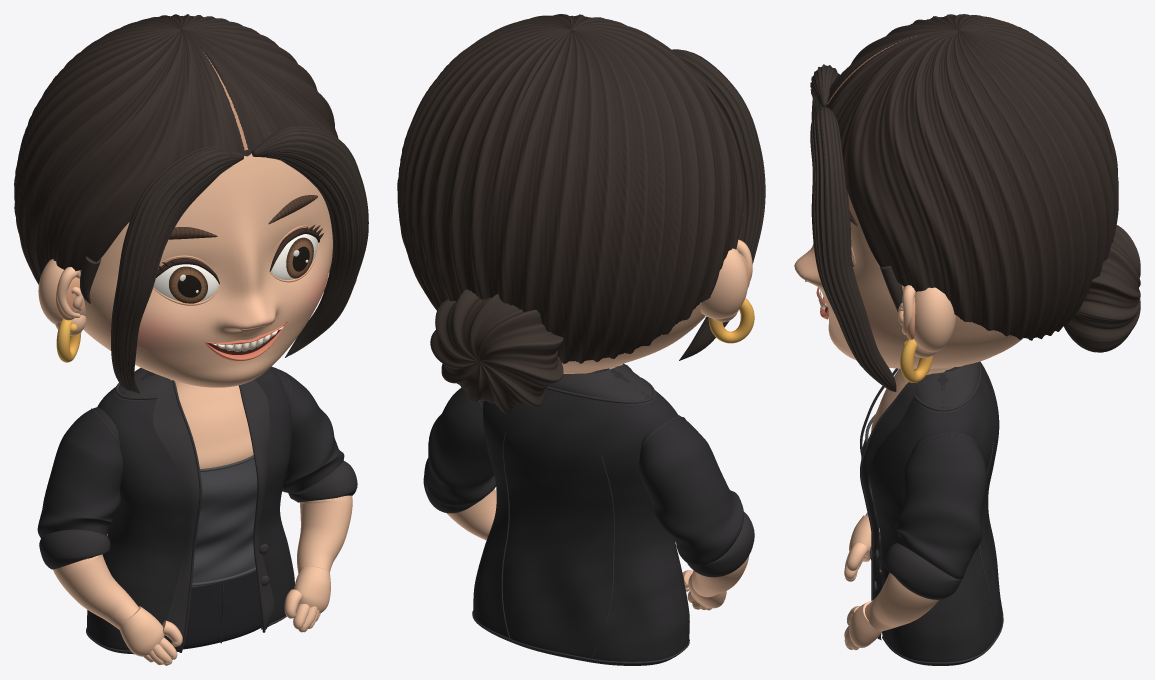
File: ashley_lin.glb
The picture shows the model from 3 angles, left to right: view 1: azimuth 30°, elevation 25°; view 2: azimuth 150°, elevation 25°; view 3: azimuth 270°, elevation 25°; orthographic projection. The views are drawn at different scales.
Parts seen in each view (by area): view 1: Swept crown and nape, Head, Blazer shell, Face-framing locks, Shaped sleeves, Shaped blazer lapels, Square-neck satin top, Forearms, Fine strands on front locks, Neck and open collarbone, Trousers at waist, Rolled jacket cuffs (+13 smaller); view 2: Swept crown and nape, Blazer shell, Shaped sleeves, Twisted low bun, Face-framing locks, Turned blazer collar, Forearms, Ears, Rolled jacket cuffs, Head, Gold hoop earrings, Blazer back darts (+2 smaller); view 3: Swept crown and nape, Blazer shell, Shaped sleeves, Face-framing locks, Head, Twisted low bun, Ears, Rolled jacket cuffs, Forearms, Shaped blazer lapels, Fine strands on front locks, Turned blazer collar (+7 smaller).
Part boxes in pixels (<box>): Swept crown and nape: <box>14,14,338,284</box>; Head: <box>79,153,332,387</box>; Blazer shell: <box>87,368,294,654</box>; Face-framing locks: <box>111,125,367,393</box>; Shaped sleeves: <box>37,367,344,538</box>; Shaped blazer lapels: <box>153,376,274,651</box>; Square-neck satin top: <box>192,455,257,587</box>; Forearms: <box>53,495,352,629</box>; Fine strands on front locks: <box>113,127,368,392</box>; Neck and open collarbone: <box>170,379,253,468</box>; Trousers at waist: <box>183,571,261,649</box>; Rolled jacket cuffs: <box>39,461,357,569</box>; Swept crown and nape: <box>397,14,743,363</box>; Blazer shell: <box>473,369,689,665</box>; Shaped sleeves: <box>424,387,743,565</box>; Twisted low bun: <box>430,289,563,413</box>; Face-framing locks: <box>672,49,765,360</box>; Turned blazer collar: <box>548,367,656,404</box>; Forearms: <box>446,489,749,597</box>; Ears: <box>700,248,750,322</box>; Rolled jacket cuffs: <box>423,475,754,577</box>; Head: <box>562,302,705,373</box>; Gold hoop earrings: <box>708,298,754,343</box>; Blazer back darts: <box>501,433,614,658</box>; Swept crown and nape: <box>825,14,1118,340</box>; Blazer shell: <box>869,361,1002,665</box>; Shaped sleeves: <box>894,430,987,578</box>; Face-framing locks: <box>810,64,896,391</box>; Head: <box>794,193,1023,368</box>; Twisted low bun: <box>1064,225,1140,352</box>; Ears: <box>903,287,955,357</box>; Rolled jacket cuffs: <box>884,543,961,599</box>; Forearms: <box>865,512,938,631</box>; Shaped blazer lapels: <box>861,373,934,640</box>; Fine strands on front locks: <box>810,64,893,391</box>; Turned blazer collar: <box>915,362,979,413</box>.
Size of the model in its own units: 0.0988 by 0.18 by 0.0957.
